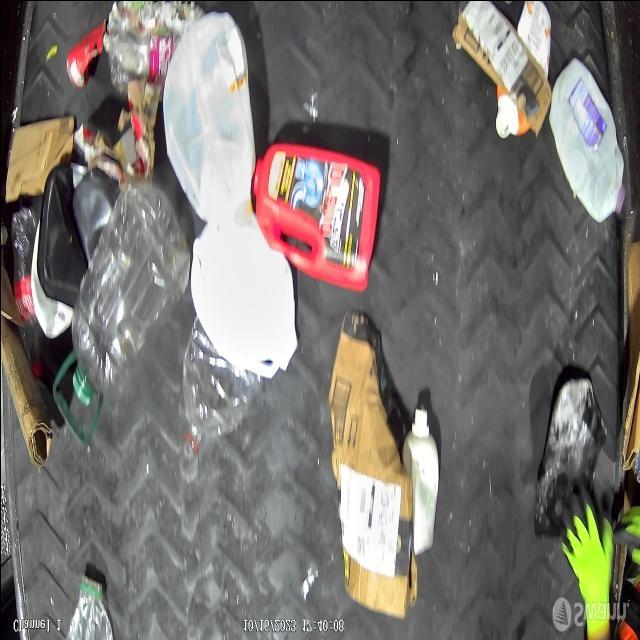milk_jug: (190, 219, 302, 385), (164, 18, 250, 222)
non_white_jug: (246, 143, 380, 284)
plastic_bottle: (62, 190, 186, 407)
